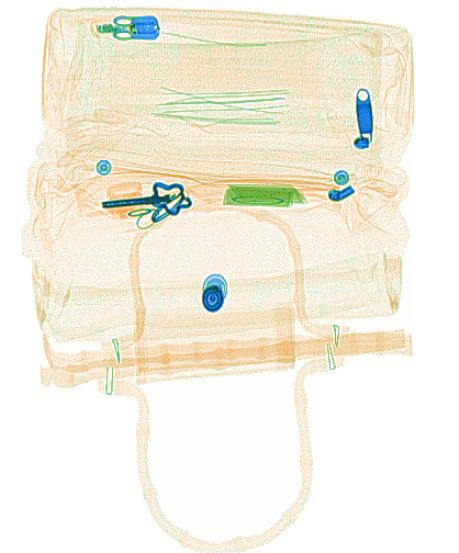USBFlashDisk: (89, 13, 162, 42)
